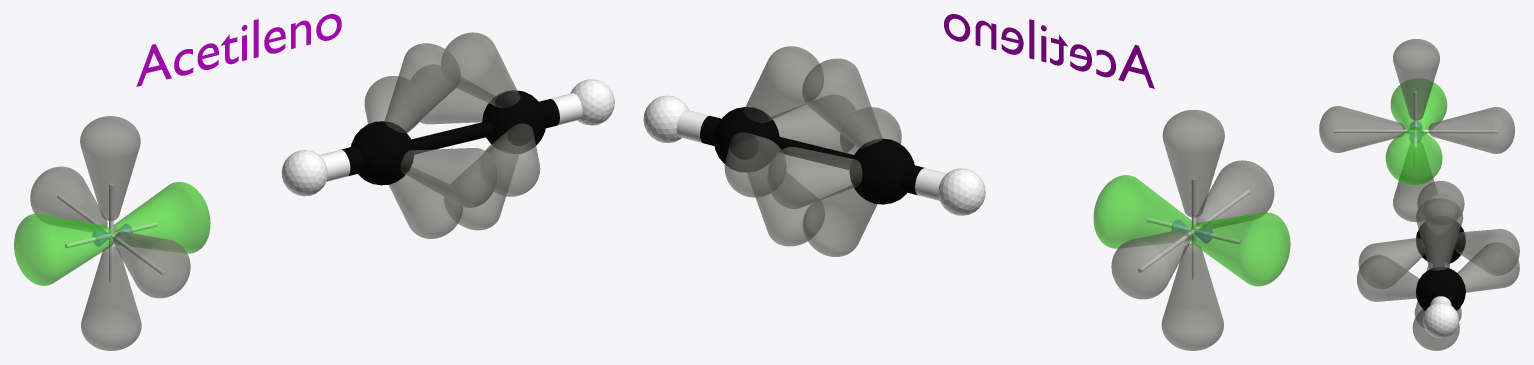
Rendered from acetileno_sp2.glb.
3 renders of one model, left to right at view 1: azimuth 30°, elevation 25°; view 2: azimuth 150°, elevation 25°; view 3: azimuth 270°, elevation 25°, orthographic. The views are drawn at different scales.
Visible parts, largest first — view 1: suborbital p.007, suborbital p.003, suborbital p.009, suborbital p.008, suborbital p.016, suborbital p.011, suborbital p.010, suborbital p.004, suborbital p.005, Shape_IndexedFaceSet.003, Shape_IndexedFaceSet.004, suborbital p.013 (+10 smaller); view 2: suborbital p.007, suborbital p.003, suborbital p.009, suborbital p.008, suborbital p.016, suborbital p.012, suborbital p.010, suborbital p.005, Shape_IndexedFaceSet.003, suborbital p.001, suborbital p.004, Shape_IndexedFaceSet.004 (+10 smaller); view 3: suborbital p.005, suborbital p.004, suborbital p.009, suborbital p.010, suborbital p.003, suborbital p.011, suborbital p.012, suborbital p.013, suborbital p.014, suborbital p.007, suborbital p.008, suborbital p.016 (+8 smaller).
Boxes of the visible parts, x1,y1,x2,y2 form: suborbital p.007: (14,213,113,285); suborbital p.003: (113,181,210,253); suborbital p.009: (80,116,140,220); suborbital p.008: (81,246,141,350); suborbital p.016: (384,43,460,133); suborbital p.011: (400,148,496,207); suborbital p.010: (441,32,520,108); suborbital p.004: (113,231,190,298); suborbital p.005: (30,166,107,231); Shape_IndexedFaceSet.003: (482,90,559,153); Shape_IndexedFaceSet.004: (341,121,413,185); suborbital p.013: (480,123,540,196); suborbital p.007: (1189,212,1290,286); suborbital p.003: (1093,175,1191,248); suborbital p.009: (1162,110,1224,217); suborbital p.008: (1161,243,1223,350); suborbital p.016: (802,58,882,148); suborbital p.012: (767,147,862,208); suborbital p.010: (743,46,823,122); suborbital p.005: (1111,229,1190,299); Shape_IndexedFaceSet.003: (700,107,779,172); suborbital p.001: (747,165,824,246); suborbital p.004: (1196,160,1274,228); Shape_IndexedFaceSet.004: (849,138,924,204); suborbital p.005: (1428,107,1514,153); suborbital p.004: (1319,106,1405,152); suborbital p.009: (1393,39,1439,120); suborbital p.010: (1416,198,1463,270); suborbital p.003: (1385,126,1442,184); suborbital p.011: (1358,237,1424,288); suborbital p.012: (1454,229,1519,275); suborbital p.013: (1357,255,1419,301); suborbital p.014: (1457,242,1519,292); suborbital p.007: (1390,79,1447,135); suborbital p.008: (1393,142,1437,222); suborbital p.016: (1417,181,1464,228).
Bounding box in the file's own units: 11.34 × 5.14 × 4.19.
